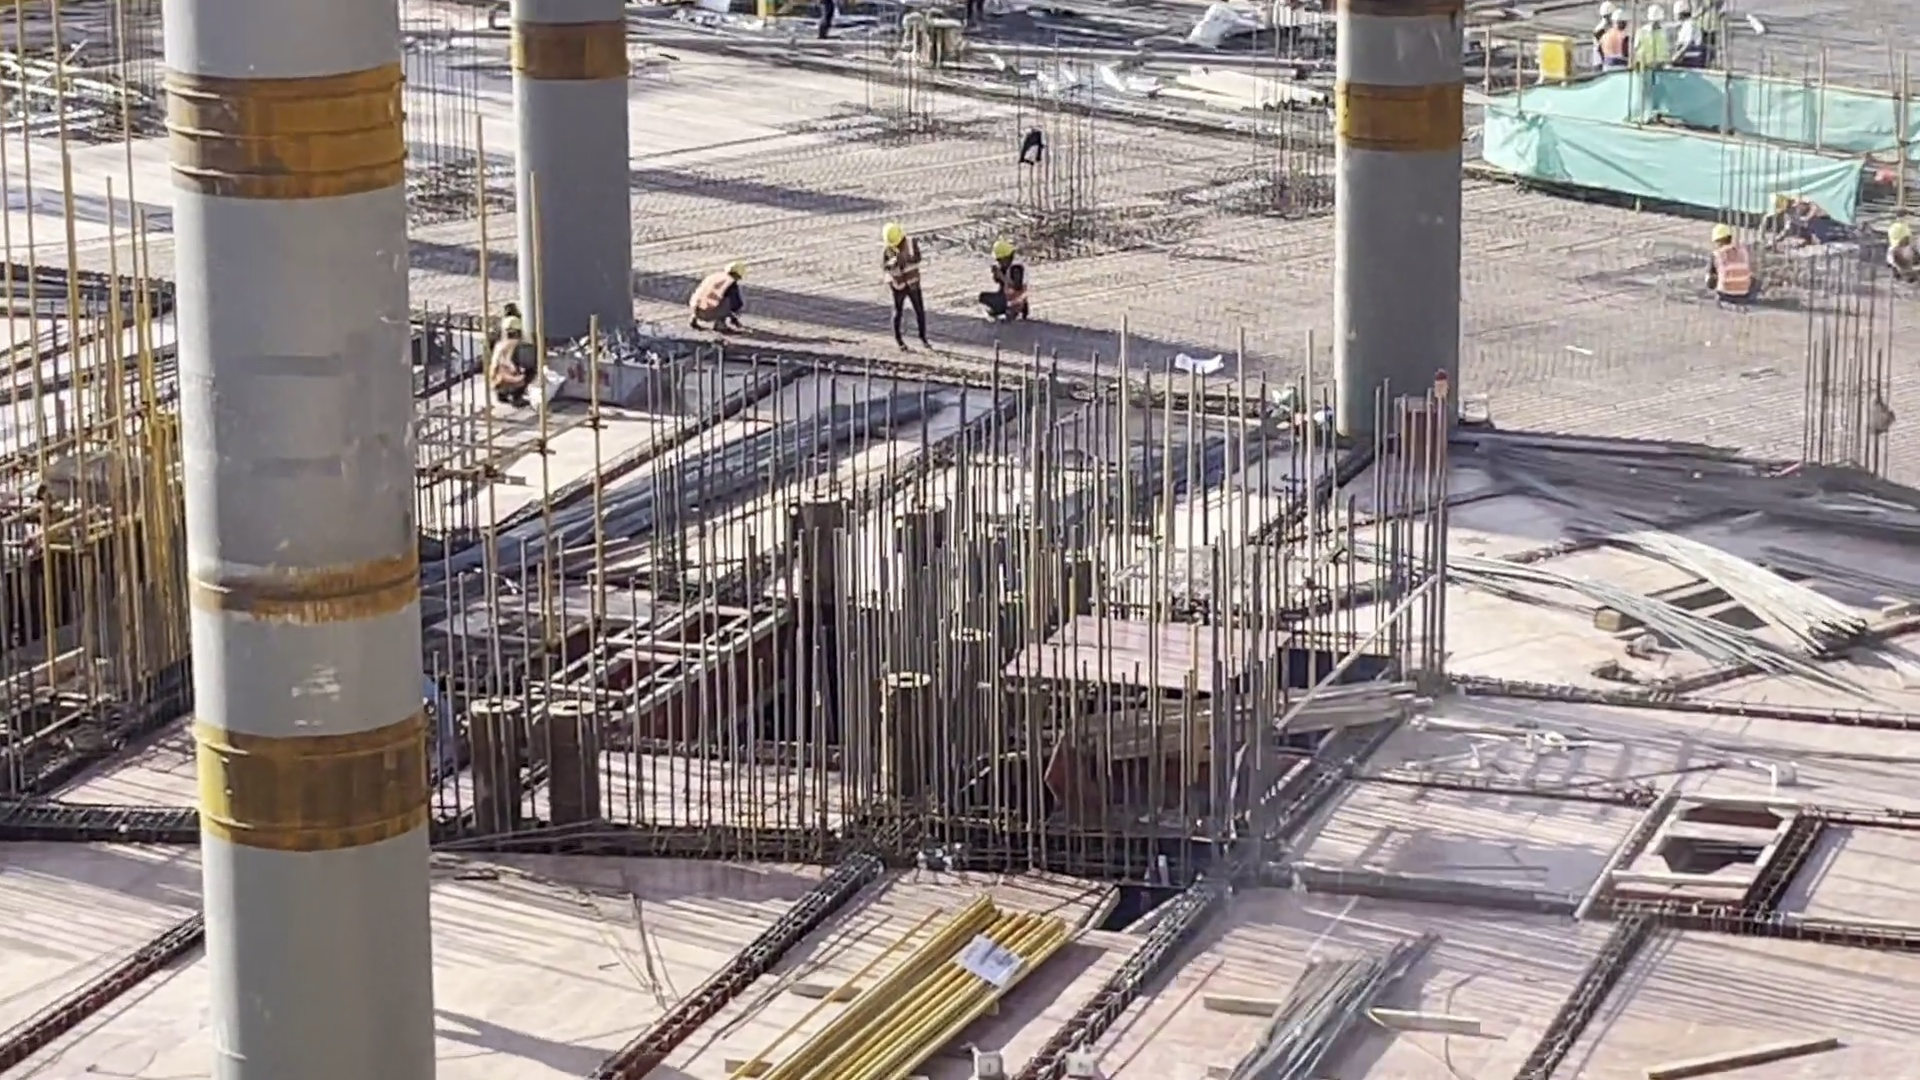helmet: (879, 218, 912, 248), (1874, 220, 1912, 245), (1712, 226, 1744, 250), (993, 235, 1019, 264), (501, 302, 524, 333), (713, 255, 741, 279)
person: (870, 208, 940, 375), (478, 293, 554, 405), (682, 234, 751, 344), (981, 213, 1037, 330), (1693, 218, 1761, 308), (1771, 178, 1835, 249), (1870, 220, 1920, 291), (1589, 12, 1636, 74), (1637, 4, 1671, 79), (1681, 9, 1707, 61)
vest: (689, 270, 734, 324), (487, 342, 531, 394), (983, 257, 1026, 308), (878, 250, 918, 296)
